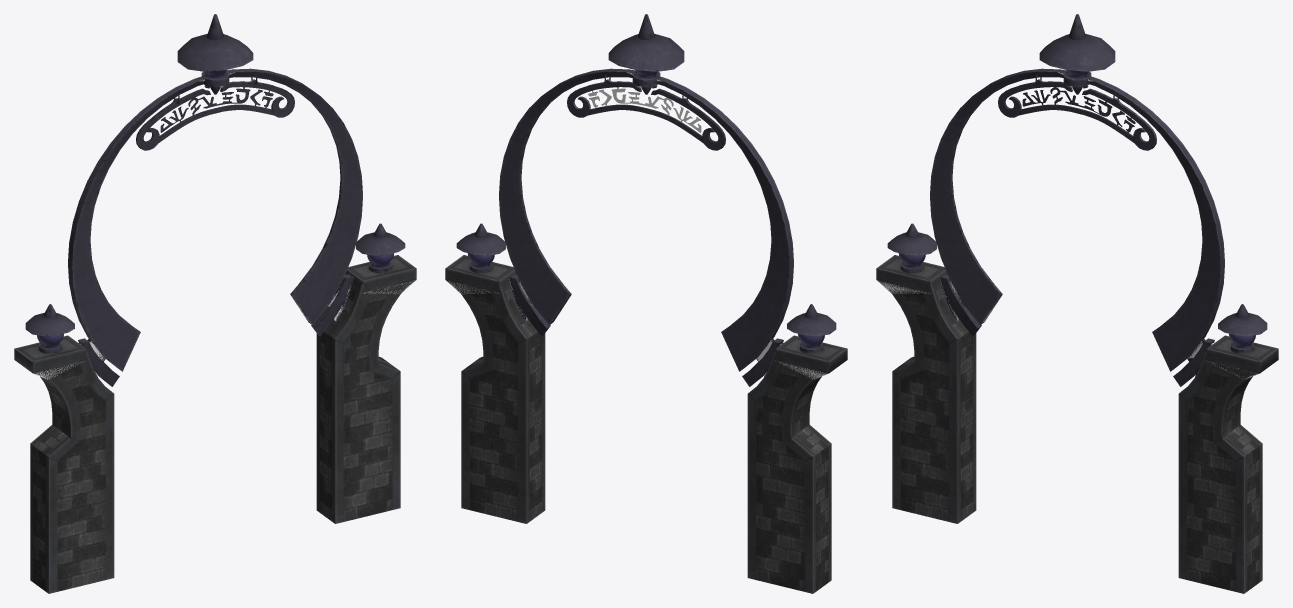
Rendered from objects_un_t08gate01.gltf.
The picture shows the model from 3 angles, left to right: view 1: azimuth 30°, elevation 25°; view 2: azimuth 150°, elevation 25°; view 3: azimuth 330°, elevation 25°; orthographic projection.
Visible parts, largest first — view 1: um_objects_un_t08gate01_model_lod0Shape:objects_un_t08gate01 (×2), glass01_shape:objects_un_t08gate01_glass01; view 2: um_objects_un_t08gate01_model_lod0Shape:objects_un_t08gate01 (×2), glass01_shape:objects_un_t08gate01_glass01; view 3: um_objects_un_t08gate01_model_lod0Shape:objects_un_t08gate01 (×2), glass01_shape:objects_un_t08gate01_glass01.
Part boxes in pixels (x1,y1,x2,y2): um_objects_un_t08gate01_model_lod0Shape:objects_un_t08gate01 (×2): [14, 14, 416, 593]; glass01_shape:objects_un_t08gate01_glass01: [37, 70, 394, 348]; um_objects_un_t08gate01_model_lod0Shape:objects_un_t08gate01 (×2): [445, 14, 847, 593]; glass01_shape:objects_un_t08gate01_glass01: [467, 70, 824, 348]; um_objects_un_t08gate01_model_lod0Shape:objects_un_t08gate01 (×2): [876, 14, 1278, 593]; glass01_shape:objects_un_t08gate01_glass01: [898, 70, 1255, 348].
Size of what is drawn, in the model's own units: 8.55 by 11.28 by 1.47.
4 materials, 3 textured.
